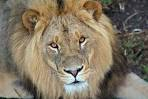lion: (8, 5, 139, 99)
